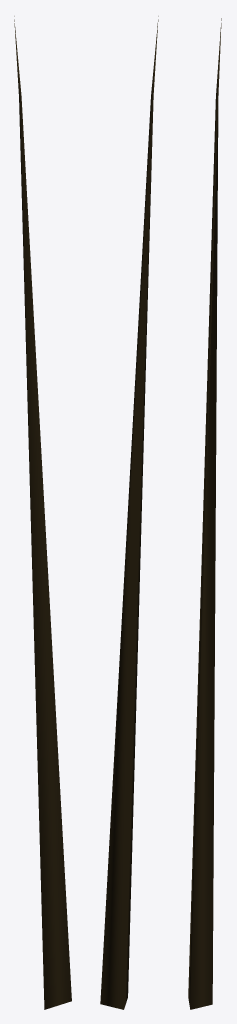
The model's file is FirLOD1Trunk.fbx.
3 renders of one model, left to right at view 1: azimuth 30°, elevation 25°; view 2: azimuth 210°, elevation 25°; view 3: azimuth 270°, elevation 25°, orthographic.
Visible parts, largest first — view 1: FirLOD1; view 2: FirLOD1; view 3: FirLOD1.
Boxes of the visible parts, x1,y1,x2,y2 form: FirLOD1: (14,16,71,1009); FirLOD1: (100,16,158,1009); FirLOD1: (188,18,221,1009).
Bounding box in the file's own units: 202 × 4533 × 141.
